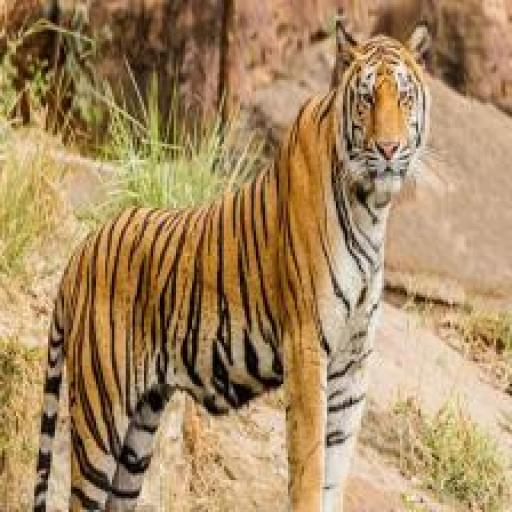Tiger: (30, 16, 456, 511)
